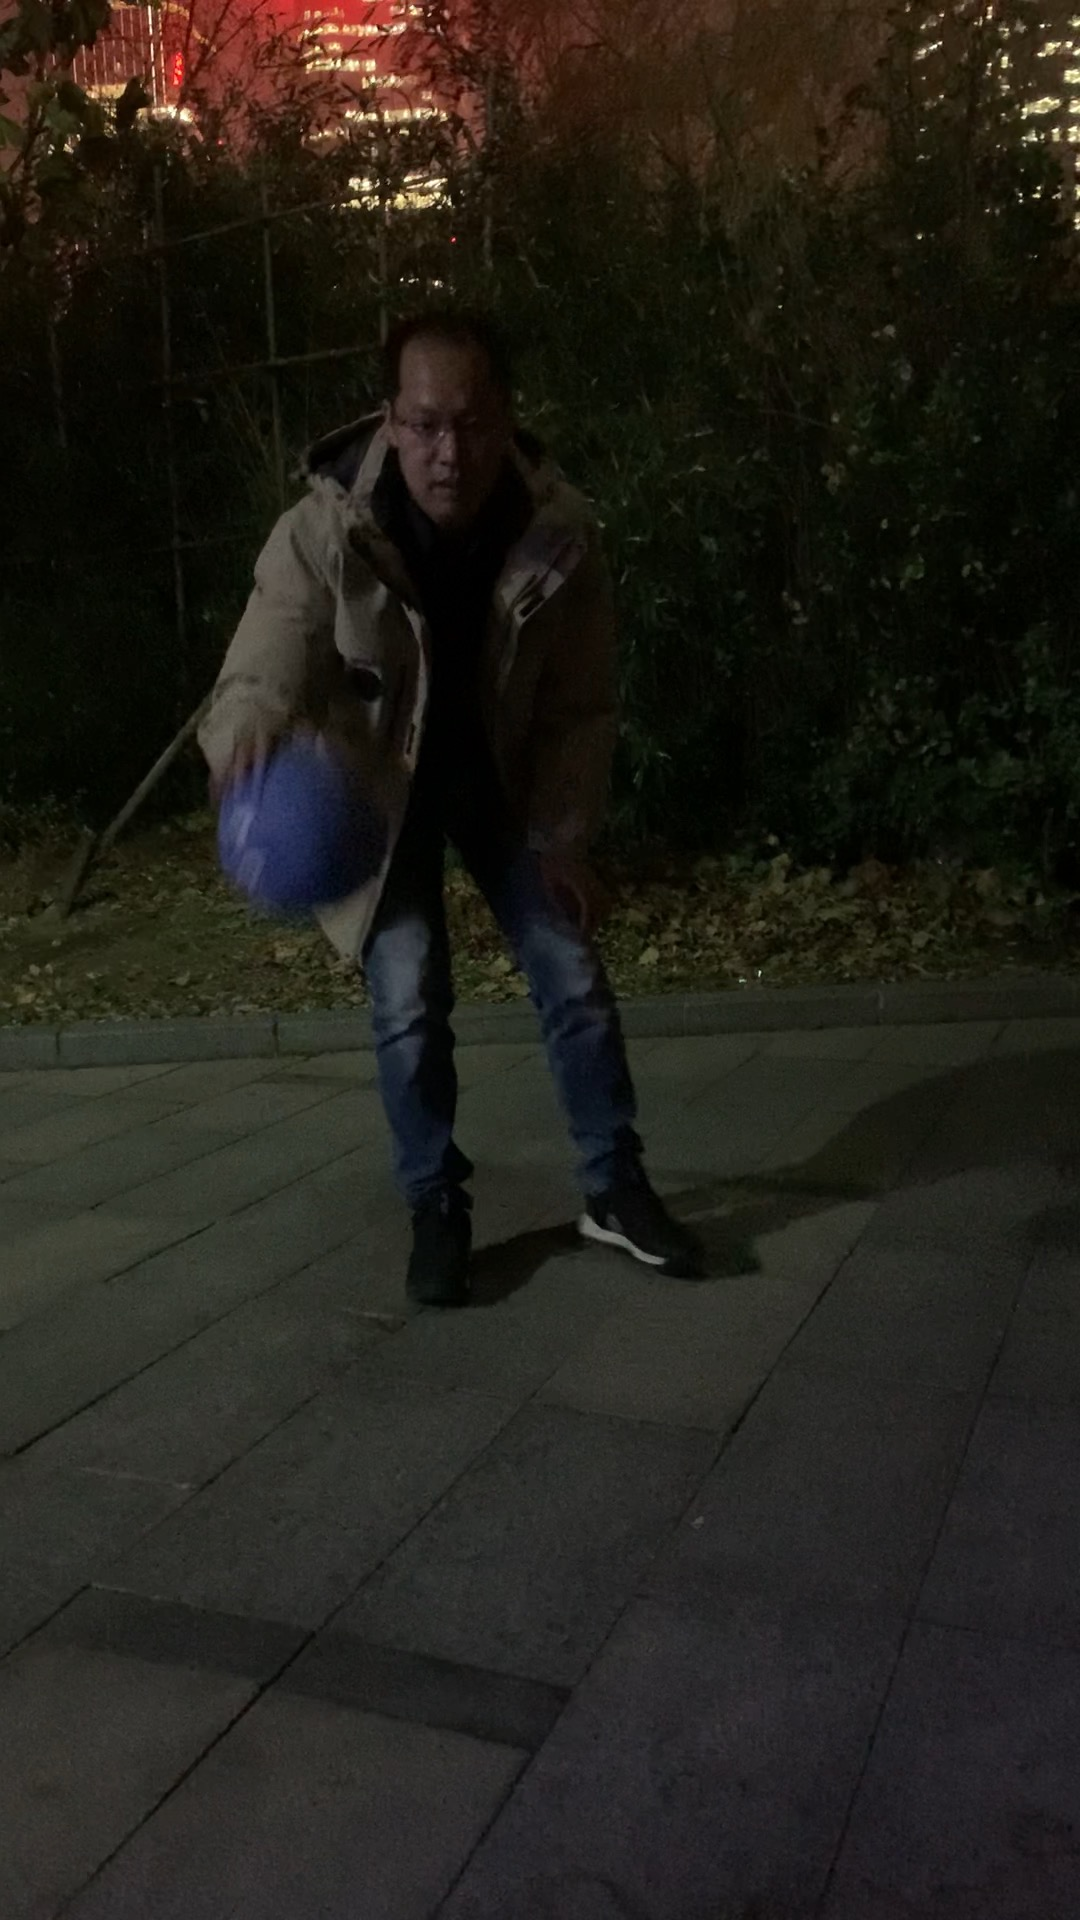ball: (211, 742, 393, 919)
